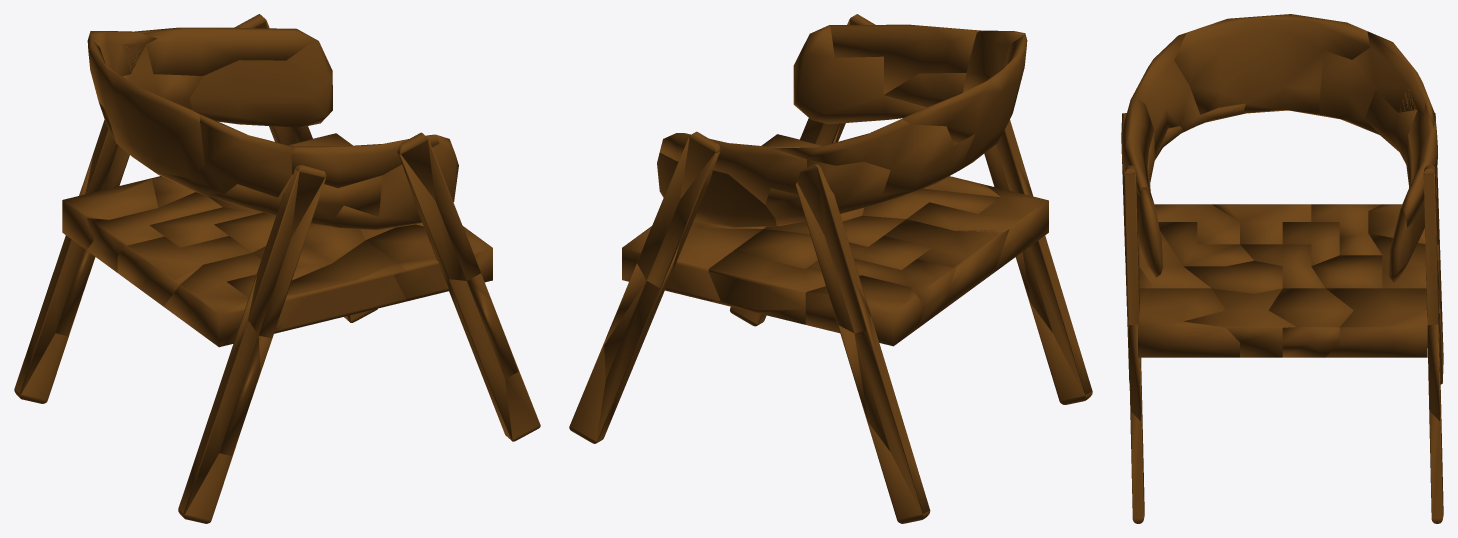
Rendered from SillaRota.fbx.
3 views of the same model, side by side, from view 1: azimuth 30°, elevation 25°; view 2: azimuth 150°, elevation 25°; view 3: azimuth 270°, elevation 25° (orthographic). The views are drawn at different scales.
Parts seen in each view (by area): view 1: Espalda, Espalda.005, Culo.005, Espalda.008, Espalda.004, Culo.009, Culo, Culo.004, Patas.028, Espalda.001, Culo.012, Espalda.002 (+24 smaller); view 2: Espalda.001, Espalda.006, Espalda.002, Espalda.005, Culo.011, Culo.009, Culo, Culo.002, Espalda.008, Culo.013, Patas.012, Espalda.007 (+27 smaller); view 3: Espalda.005, Espalda.006, Culo.002, Culo.004, Espalda.004, Culo.001, Culo.003, Culo, Culo.008, Espalda.008, Culo.006, Culo.012 (+18 smaller).
Part boxes in pixels (x1,y1,x2,y2): Espalda: [189, 40, 332, 127]; Espalda.005: [87, 31, 204, 178]; Culo.005: [274, 240, 405, 333]; Espalda.008: [142, 27, 318, 75]; Espalda.004: [154, 111, 294, 199]; Culo.009: [164, 253, 282, 347]; Culo: [117, 236, 251, 306]; Culo.004: [366, 224, 492, 301]; Patas.028: [178, 276, 258, 514]; Espalda.001: [334, 134, 458, 230]; Culo.012: [87, 192, 222, 272]; Espalda.002: [291, 134, 448, 187]; Espalda.001: [793, 25, 926, 124]; Espalda.006: [772, 109, 975, 197]; Espalda.002: [814, 24, 980, 94]; Espalda.005: [903, 33, 1027, 169]; Culo.011: [708, 251, 860, 324]; Culo.009: [907, 185, 1048, 272]; Culo: [884, 219, 1009, 305]; Culo.002: [622, 224, 762, 301]; Espalda.008: [660, 133, 814, 204]; Culo.013: [805, 275, 925, 346]; Patas.012: [852, 277, 929, 514]; Espalda.007: [765, 159, 914, 225]; Espalda.005: [1174, 14, 1370, 115]; Espalda.006: [1291, 31, 1434, 134]; Culo.002: [1326, 288, 1427, 357]; Culo.004: [1138, 288, 1239, 357]; Espalda.004: [1132, 33, 1245, 158]; Culo.001: [1268, 288, 1353, 357]; Culo.003: [1183, 288, 1296, 357]; Culo: [1212, 204, 1311, 244]; Culo.008: [1158, 222, 1253, 266]; Espalda.008: [1401, 103, 1437, 227]; Culo.006: [1183, 260, 1282, 293]; Culo.012: [1311, 204, 1381, 255].
Bounding box in the file's own units: 101 × 107 × 85.36.
